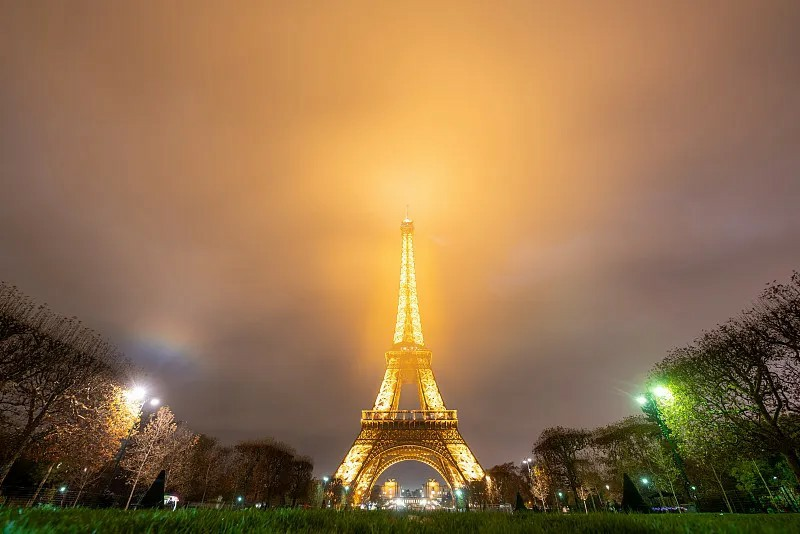Eiffel: (330, 206, 498, 506)
